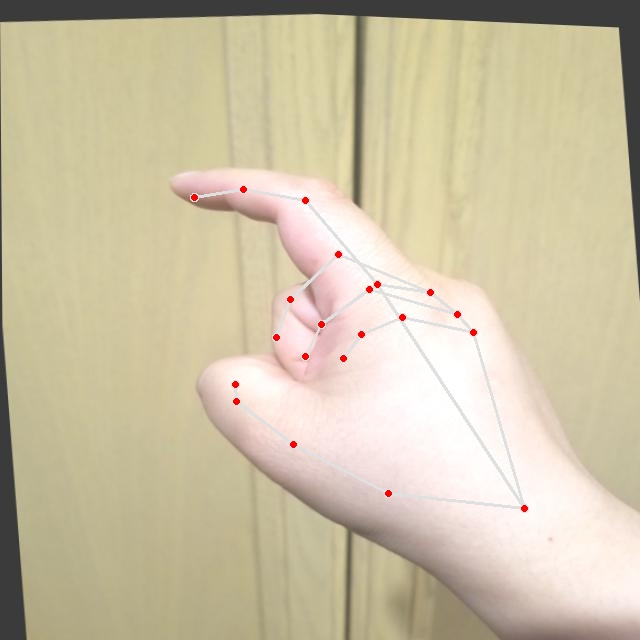X: (159, 134, 606, 601)
